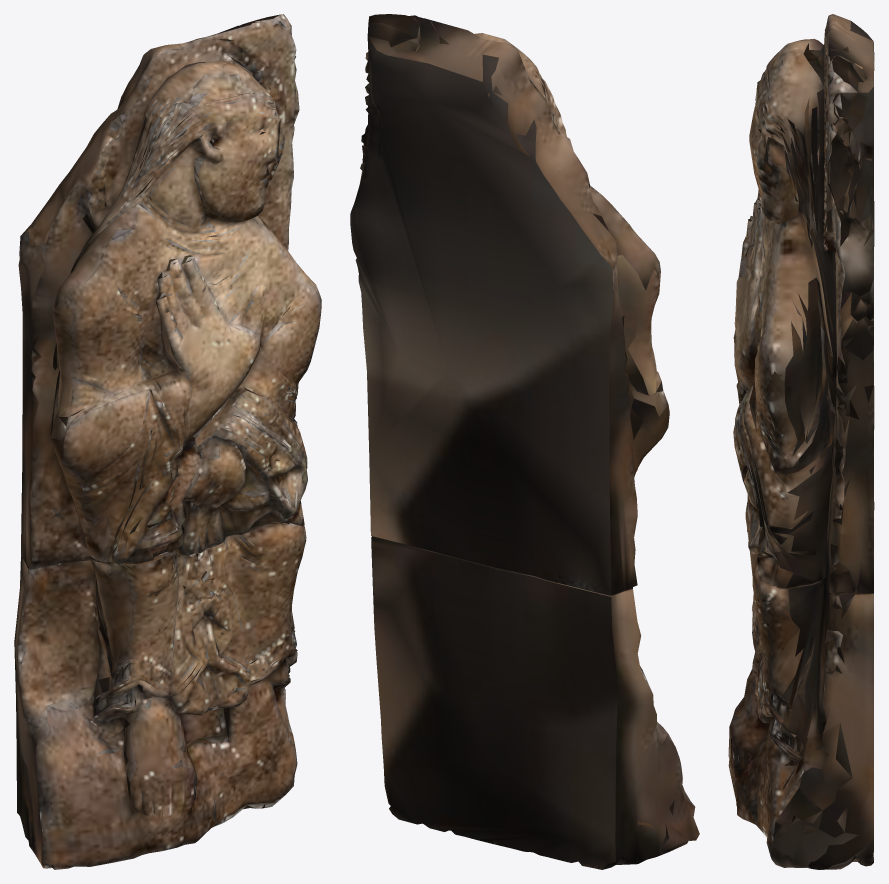
Rendered from apostle-41046.glb.
The picture shows the model from 3 angles, left to right: view 1: azimuth 30°, elevation 25°; view 2: azimuth 150°, elevation 25°; view 3: azimuth 270°, elevation 25°; orthographic projection. The views are drawn at different scales.
Visible parts, largest first — view 1: Mesh; view 2: Mesh; view 3: Mesh.
Boxes of the visible parts, box(x1,y1,x2,y2) form: Mesh: box(14, 14, 321, 869); Mesh: box(350, 14, 699, 869); Mesh: box(728, 14, 874, 869).
Size of the model in its own units: 0.3418 by 0.86 by 0.1401.
Materials: 1 (1 with a texture image).
